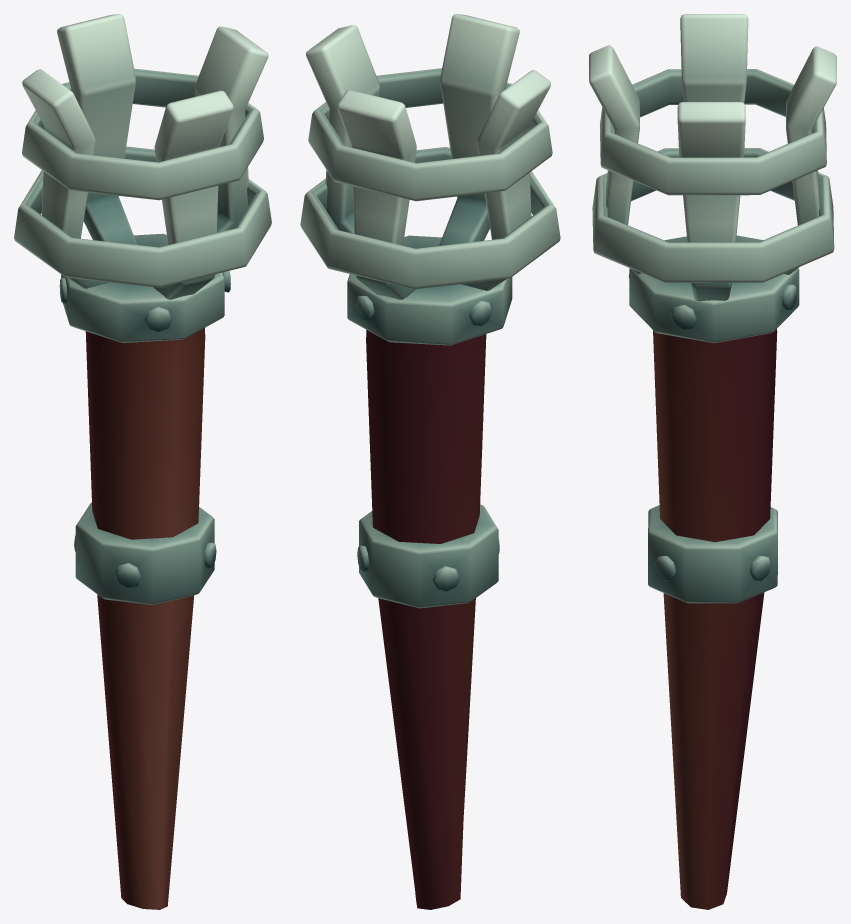
The model's file is SM_irontorch_001.fbx.
3 views of the same model, side by side, from view 1: azimuth 30°, elevation 25°; view 2: azimuth 150°, elevation 25°; view 3: azimuth 270°, elevation 25° (orthographic).
Parts seen in each view (by area): view 1: SM_irontorch_001; view 2: SM_irontorch_001; view 3: SM_irontorch_001.
Boxes of the visible parts, x1,y1,x2,y2 form: SM_irontorch_001: (14,14,271,909); SM_irontorch_001: (300,14,560,909); SM_irontorch_001: (589,14,836,909).
Bounding box in the file's own units: 28.79 × 108 × 28.79.
